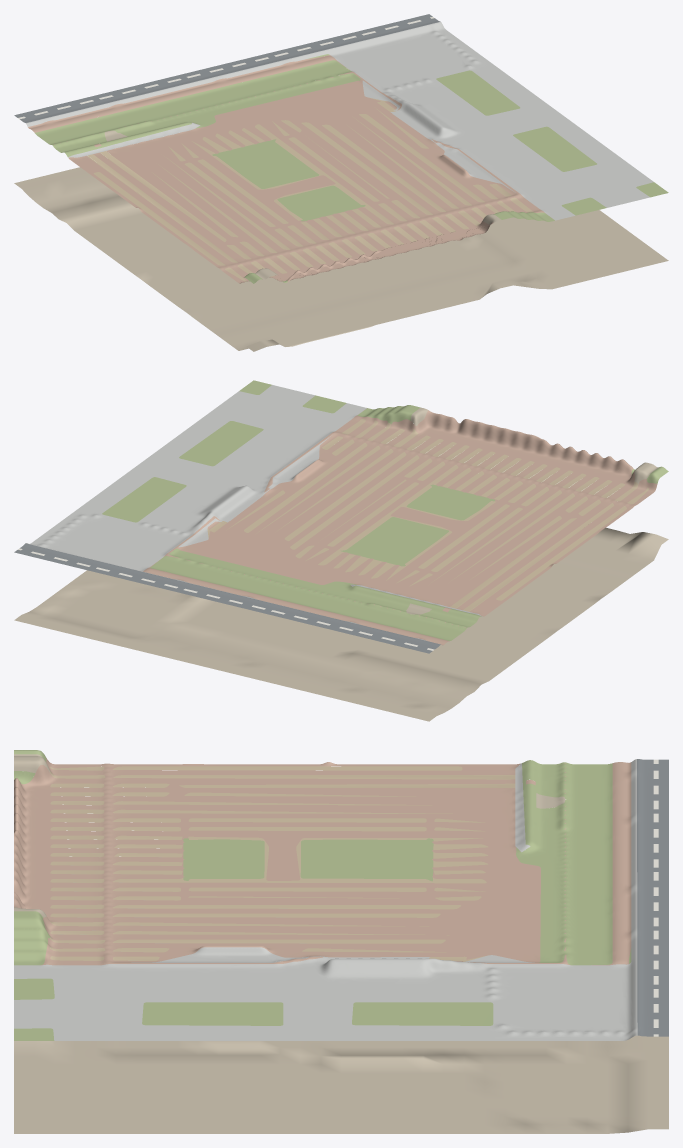
3 views of the same model, one above another, from view 1: azimuth 30°, elevation 25°; view 2: azimuth 150°, elevation 25°; view 3: azimuth 270°, elevation 25° (orthographic). The views are drawn at different scales.
Visible parts, largest first — view 1: s_-6_-3__soil, s_-6_-3__brick_paving, s_-6_-3__stone_paving, s_-6_-3__grass, s_-6_-3__timber_deck, s_-6_-3__asphalt, s_-6_-3__white_marking; view 2: s_-6_-3__brick_paving, s_-6_-3__soil, s_-6_-3__stone_paving, s_-6_-3__grass, s_-6_-3__timber_deck, s_-6_-3__asphalt, s_-6_-3__white_marking; view 3: s_-6_-3__brick_paving, s_-6_-3__soil, s_-6_-3__stone_paving, s_-6_-3__grass, s_-6_-3__timber_deck, s_-6_-3__asphalt, s_-6_-3__white_marking.
Part boxes in pixels (x1=…): s_-6_-3__soil: x1=14, y1=130, x2=668, y2=351; s_-6_-3__brick_paving: x1=28, y1=55, x2=552, y2=283; s_-6_-3__stone_paving: x1=26, y1=21, x2=653, y2=220; s_-6_-3__grass: x1=35, y1=54, x2=668, y2=283; s_-6_-3__timber_deck: x1=86, y1=97, x2=533, y2=281; s_-6_-3__asphalt: x1=14, y1=14, x2=440, y2=122; s_-6_-3__white_marking: x1=18, y1=17, x2=434, y2=119; s_-6_-3__brick_paving: x1=143, y1=410, x2=657, y2=645; s_-6_-3__soil: x1=14, y1=407, x2=668, y2=721; s_-6_-3__stone_paving: x1=26, y1=385, x2=482, y2=644; s_-6_-3__grass: x1=102, y1=380, x2=668, y2=640; s_-6_-3__timber_deck: x1=207, y1=419, x2=649, y2=611; s_-6_-3__asphalt: x1=14, y1=543, x2=440, y2=653; s_-6_-3__white_marking: x1=18, y1=548, x2=434, y2=650; s_-6_-3__brick_paving: x1=14, y1=758, x2=631, y2=965; s_-6_-3__soil: x1=14, y1=754, x2=668, y2=1133; s_-6_-3__stone_paving: x1=14, y1=759, x2=637, y2=1040; s_-6_-3__grass: x1=14, y1=750, x2=631, y2=1040; s_-6_-3__timber_deck: x1=50, y1=766, x2=515, y2=961; s_-6_-3__asphalt: x1=637, y1=759, x2=668, y2=1036; s_-6_-3__white_marking: x1=653, y1=759, x2=658, y2=1036.
Size of the model in its own units: 128 by 24.01 by 128.
